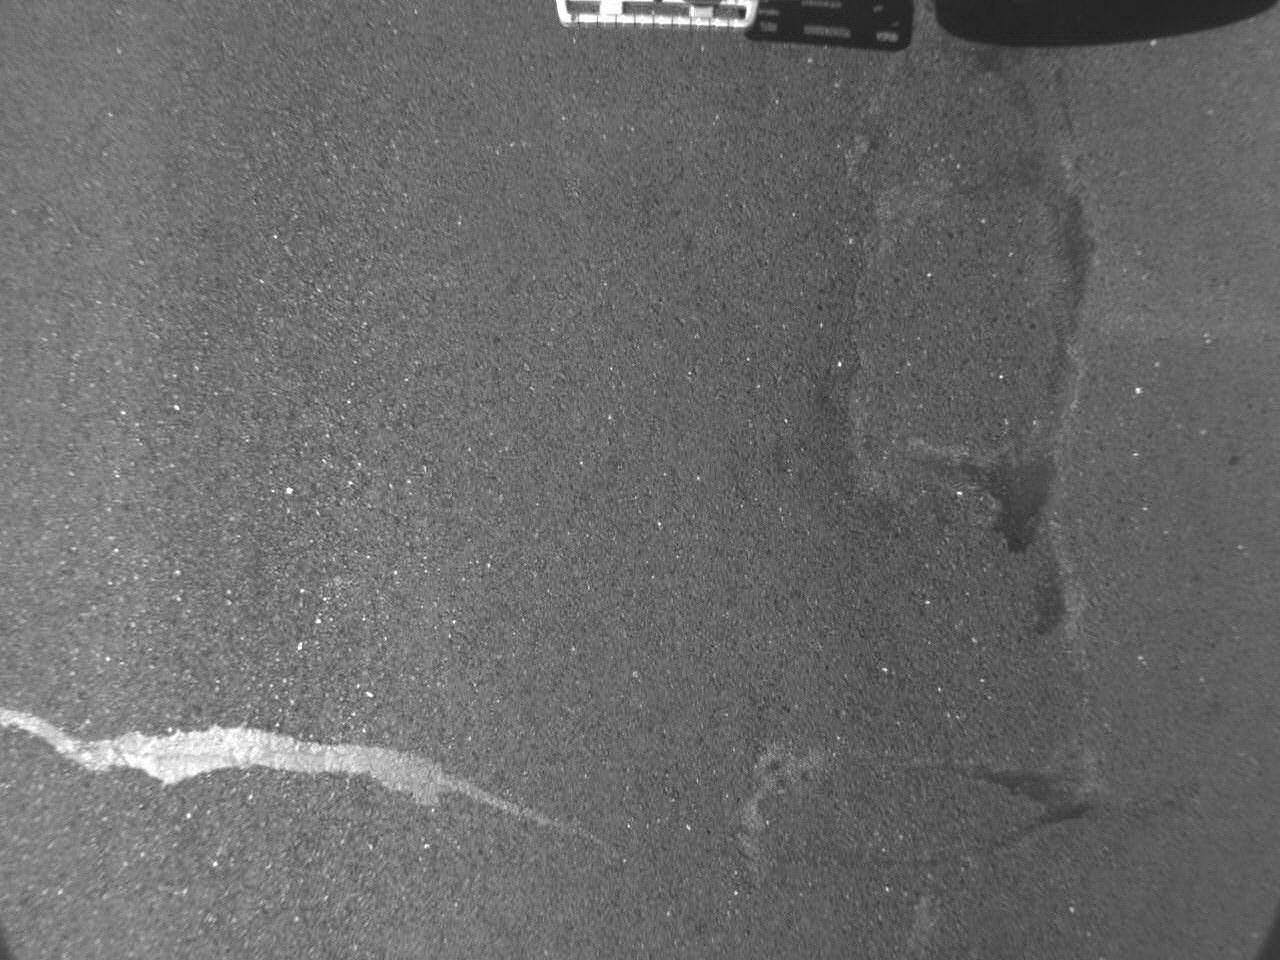sealed: (1, 700, 548, 842)
